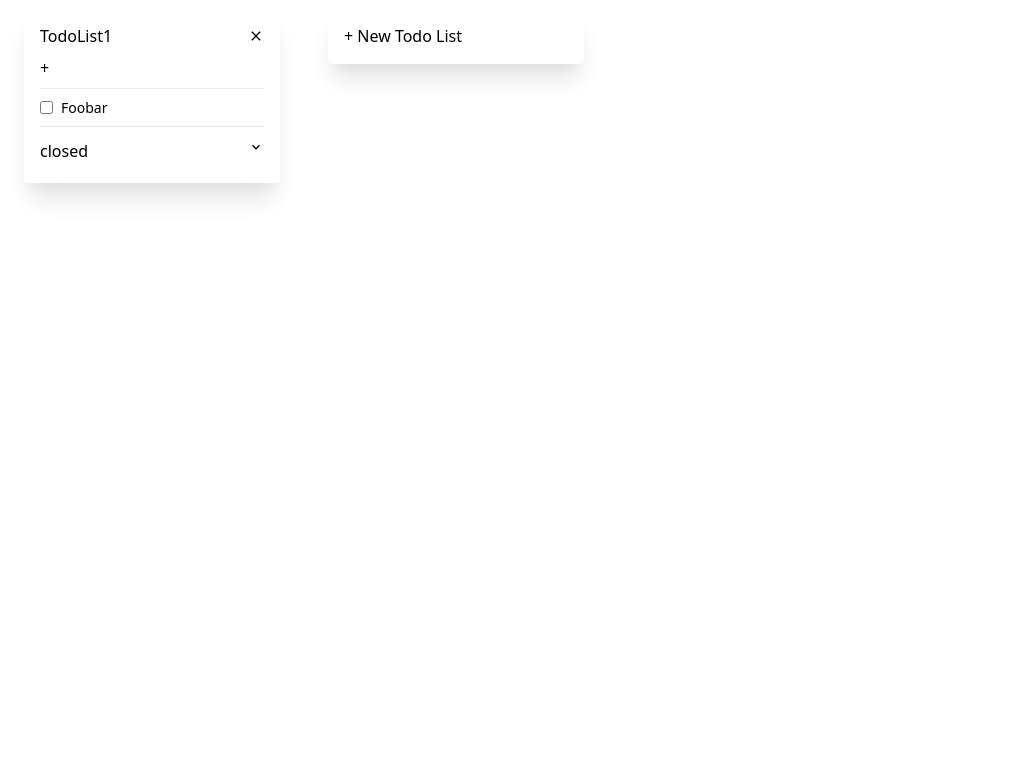
it: BoardContainer.tsx › Removes a todo list.
Click the button with test id "open-delete-todo-list-modal" at (256, 36), box [248,28,264,44]
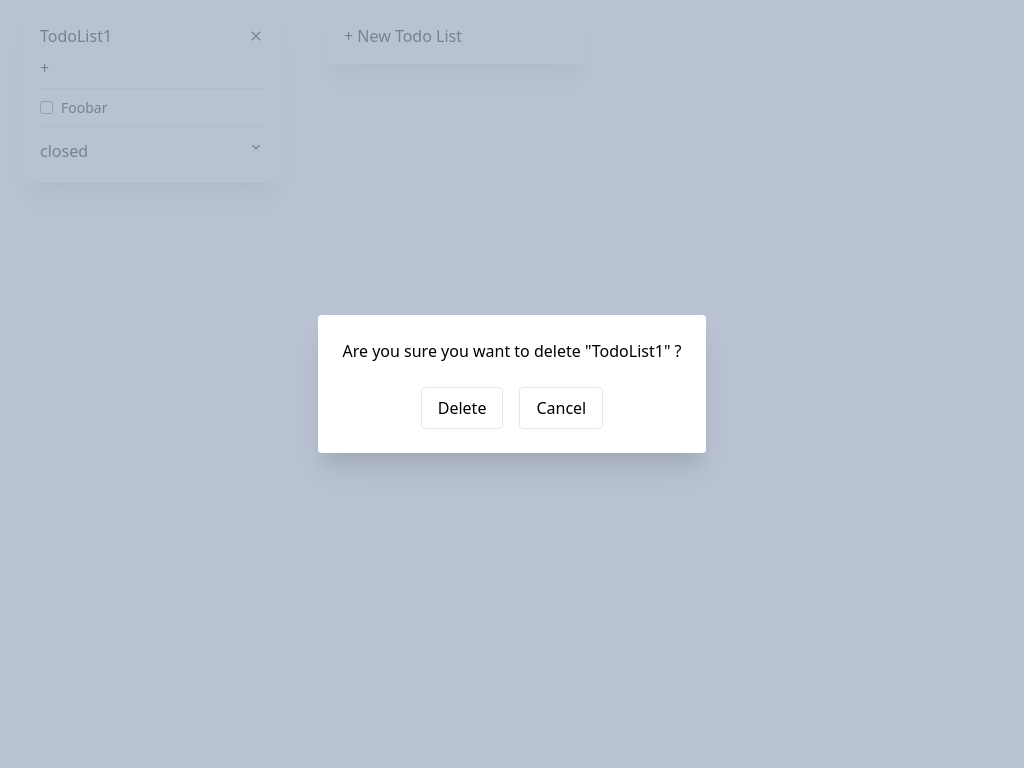
Click the button "Delete" at (462, 408), box [421,387,504,429]
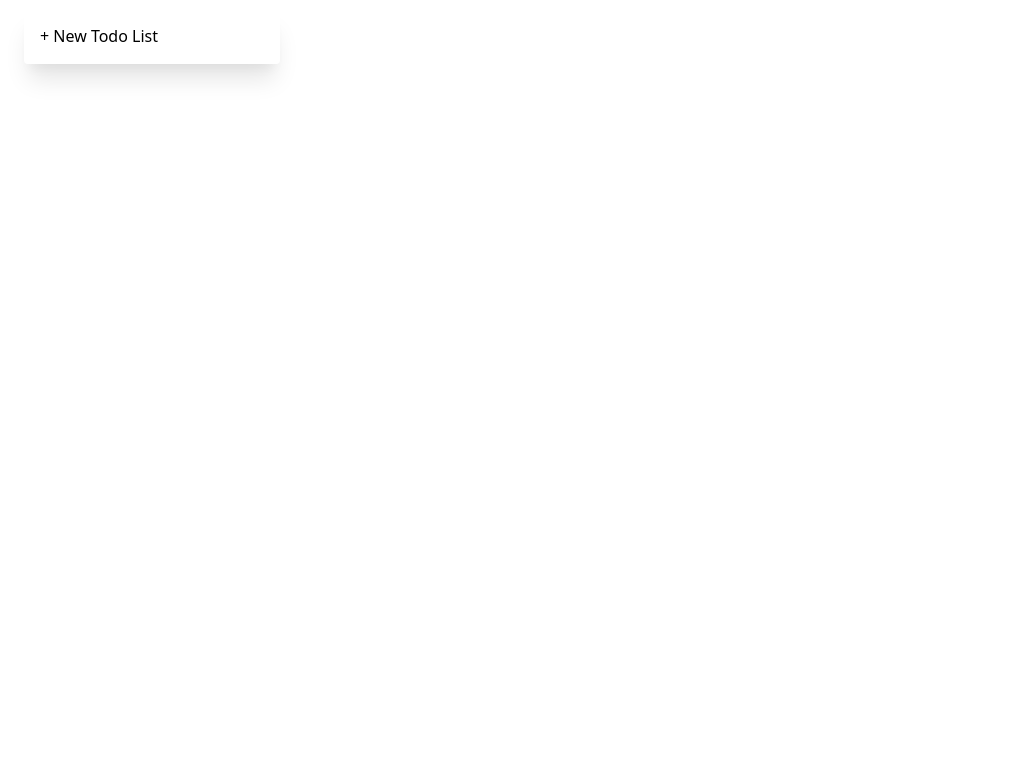
Expected: the heading "TodoList1" is gone
